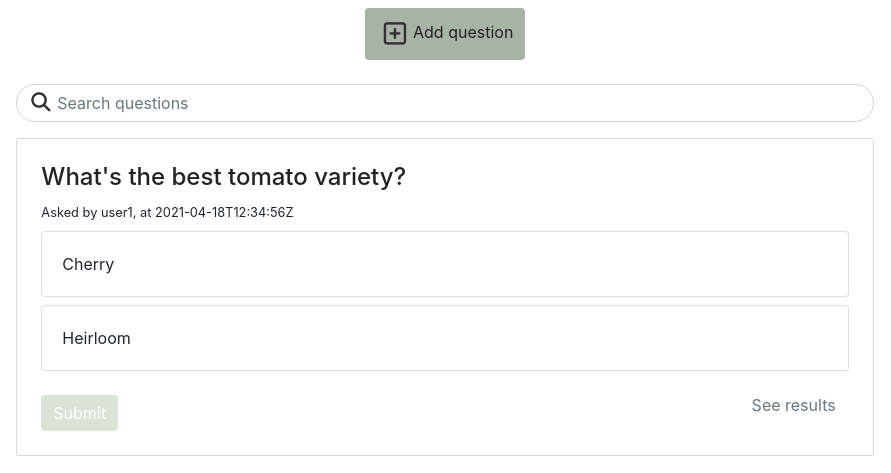
Questions › toggles viewing results
Click the button "See results": (794, 405) [739,386,849,424]
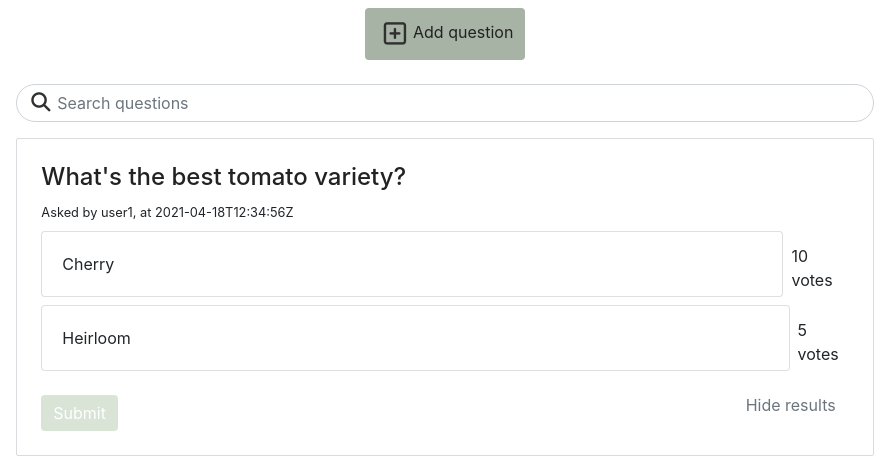
Now the button "Hide results" is shown, box [733,386,849,424]
Now the text "10 votes" is shown, box [792,246,833,290]
